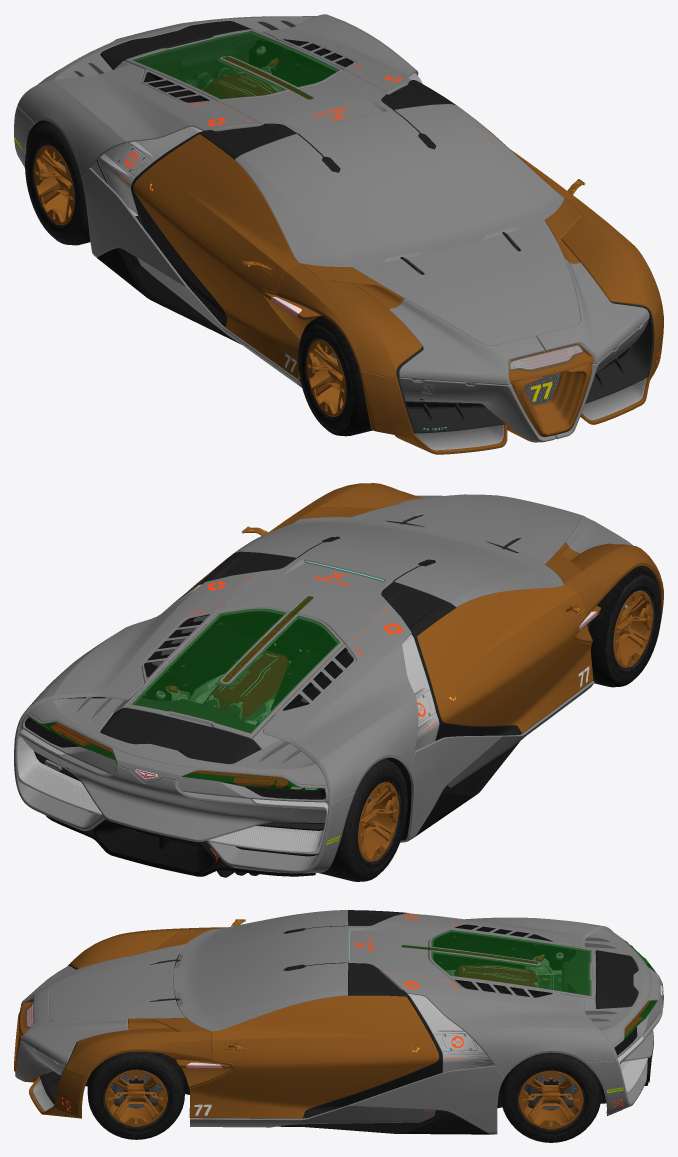
The picture shows the model from 3 angles, top to bottom: view 1: azimuth 30°, elevation 25°; view 2: azimuth 150°, elevation 25°; view 3: azimuth 270°, elevation 25°; orthographic projection. The views are drawn at different scales.
Visible parts, largest first — view 1: SM_RearKit_0000.001_5, SM_FrontKit_0000.001_2, SM_Base_0000.001_0, SM_Hood_0000.001_3, SM_Engine_0000.001_1, SM_Tyre_R_0000.001_16, SM_Tyre_R_0000.002_21, SM_Hub_R_0000.002_20, SM_Hub_R_0000.001_15; view 2: SM_RearKit_0000.001_5, SM_Base_0000.001_0, SM_Engine_0000.001_1, SM_FrontKit_0000.001_2, SM_Hood_0000.001_3, SM_Tyre_R_0000.001_16, SM_Tyre_R_0000.002_21, SM_Hub_R_0000.002_20, SM_Hub_R_0000.001_15; view 3: SM_RearKit_0000.001_5, SM_Base_0000.001_0, SM_FrontKit_0000.001_2, SM_Hood_0000.001_3, SM_Engine_0000.001_1, SM_Tyre_L_0000.001_11, SM_Tyre_L_0000.002_26, SM_Hub_L_0000.002_25, SM_Hub_L_0000.001_10.
Part boxes in pixels (bbox=[...]): SM_RearKit_0000.001_5: bbox=[14, 14, 564, 387]; SM_FrontKit_0000.001_2: bbox=[261, 198, 663, 454]; SM_Base_0000.001_0: bbox=[133, 110, 585, 379]; SM_Hood_0000.001_3: bbox=[352, 220, 580, 345]; SM_Engine_0000.001_1: bbox=[125, 33, 335, 98]; SM_Tyre_R_0000.001_16: bbox=[298, 315, 372, 436]; SM_Tyre_R_0000.002_21: bbox=[25, 121, 90, 245]; SM_Hub_R_0000.002_20: bbox=[33, 145, 74, 225]; SM_Hub_R_0000.001_15: bbox=[306, 339, 346, 416]; SM_RearKit_0000.001_5: bbox=[14, 517, 594, 877]; SM_Base_0000.001_0: bbox=[169, 519, 593, 733]; SM_Engine_0000.001_1: bbox=[135, 612, 336, 745]; SM_FrontKit_0000.001_2: bbox=[286, 483, 663, 643]; SM_Hood_0000.001_3: bbox=[352, 494, 580, 564]; SM_Tyre_R_0000.001_16: bbox=[587, 567, 661, 687]; SM_Tyre_R_0000.002_21: bbox=[319, 758, 407, 881]; SM_Hub_R_0000.002_20: bbox=[358, 782, 399, 861]; SM_Hub_R_0000.001_15: bbox=[613, 590, 653, 667]; SM_RearKit_0000.001_5: bbox=[173, 910, 663, 1134]; SM_Base_0000.001_0: bbox=[189, 919, 439, 1118]; SM_FrontKit_0000.001_2: bbox=[14, 927, 234, 1118]; SM_Hood_0000.001_3: bbox=[49, 944, 185, 1021]; SM_Engine_0000.001_1: bbox=[428, 932, 596, 1003]; SM_Tyre_L_0000.001_11: bbox=[87, 1052, 184, 1139]; SM_Tyre_L_0000.002_26: bbox=[501, 1052, 601, 1142]; SM_Hub_L_0000.002_25: bbox=[518, 1070, 583, 1129]; SM_Hub_L_0000.001_10: bbox=[104, 1069, 167, 1126].
Bounding box in the file's own units: 2.37 × 1.19 × 5.01.
Materials: 53 (22 with a texture image).
